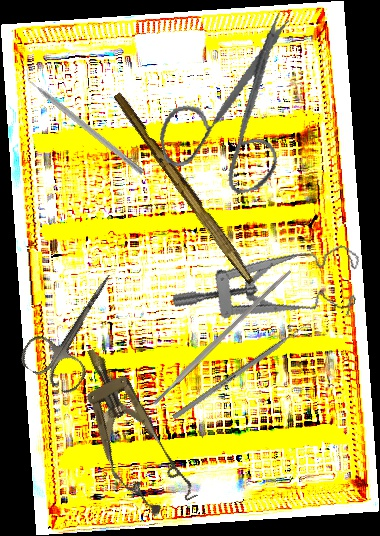Chopper: (19, 65, 151, 176)
Iris Scissors: (139, 9, 323, 208), (15, 257, 139, 398)
Pusher: (172, 315, 318, 421)
Scalpel Handle: (108, 90, 261, 286), (150, 267, 293, 407)
Speculum: (170, 206, 369, 352), (59, 334, 200, 526)
